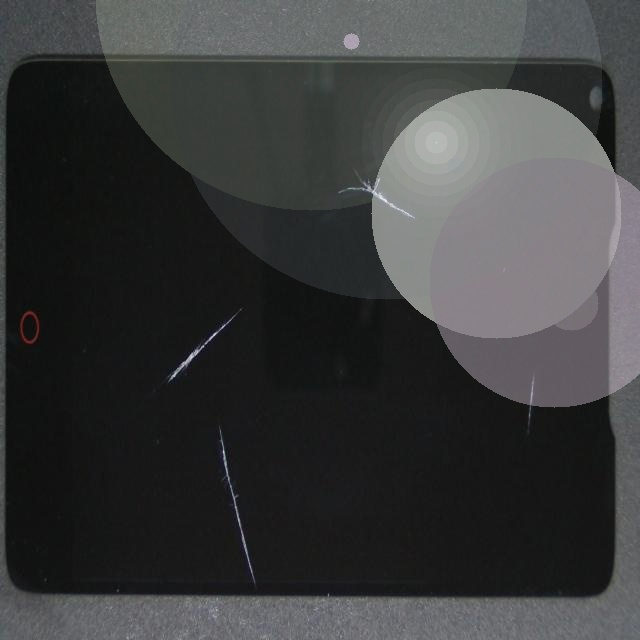scratch: (273, 132, 640, 567), (247, 131, 617, 295), (189, 103, 353, 458), (157, 397, 385, 640)
